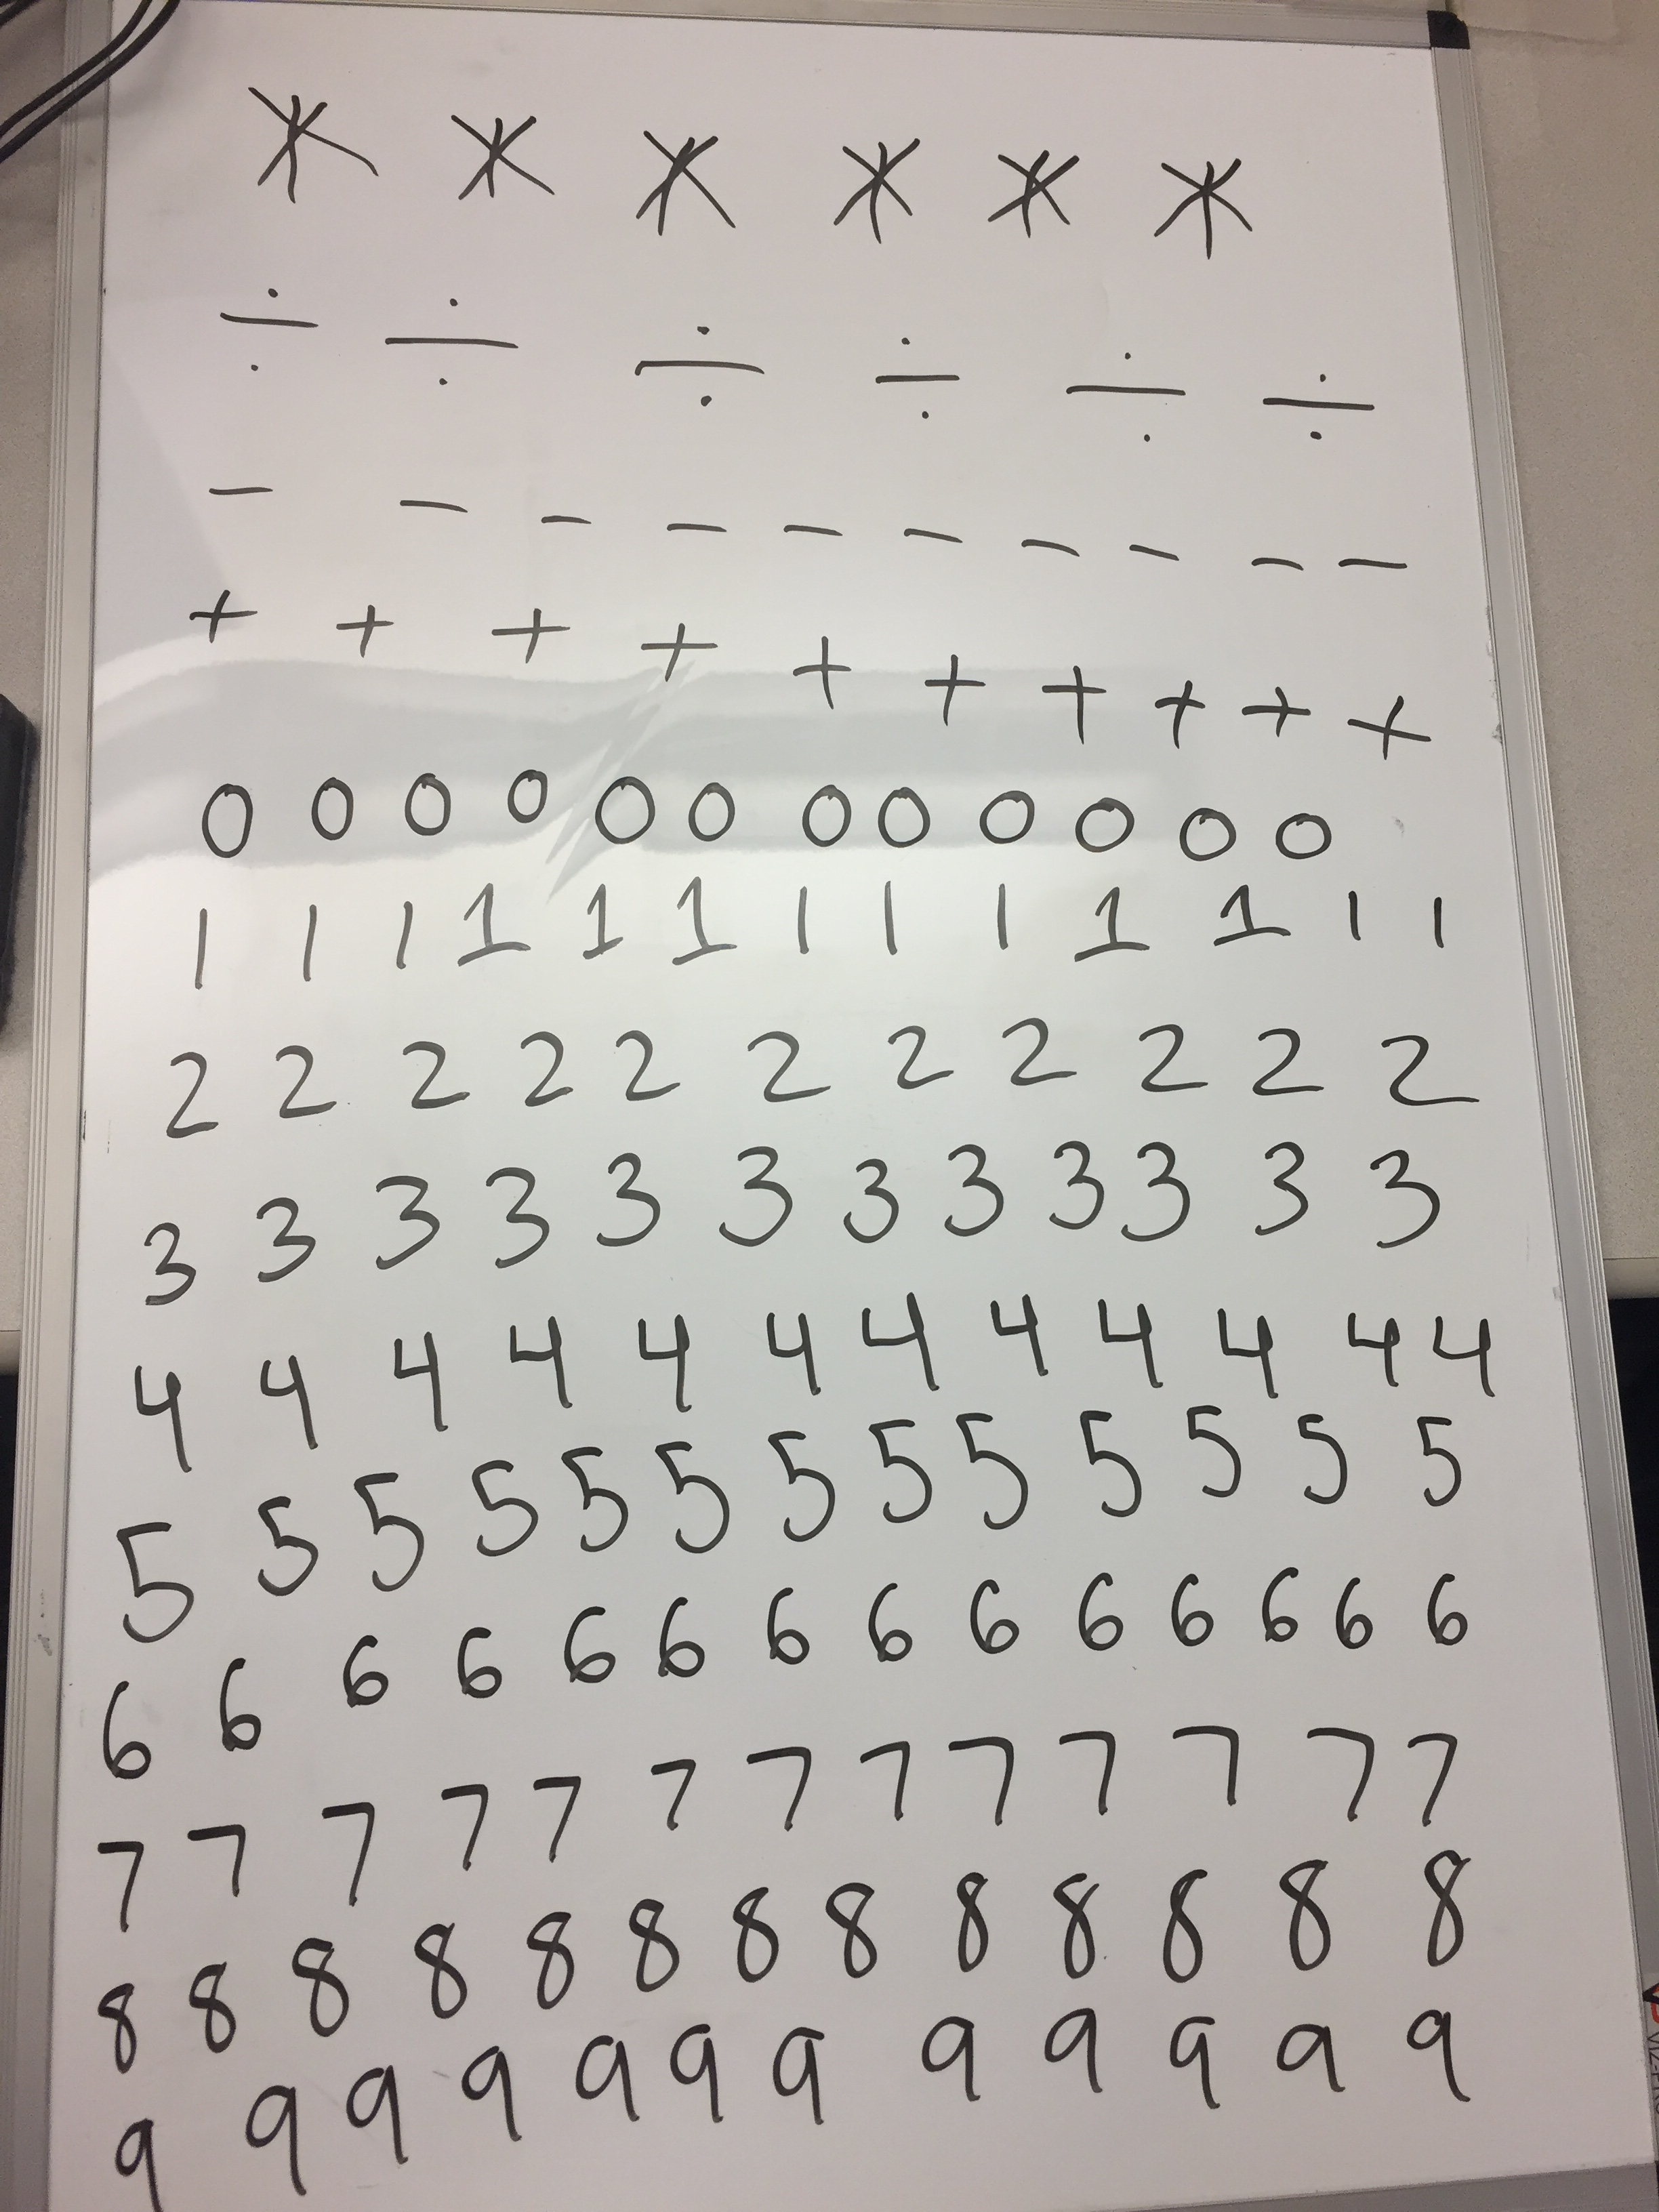+: (1324, 662, 1446, 784), (1033, 639, 1127, 761), (162, 568, 277, 665), (775, 618, 870, 726), (911, 629, 999, 740), (1134, 658, 1229, 761), (1232, 658, 1324, 761), (626, 611, 732, 700), (488, 583, 582, 683), (321, 587, 413, 676)
-: (1324, 526, 1425, 604), (188, 455, 288, 533), (890, 496, 988, 575), (1114, 514, 1206, 594), (385, 469, 488, 540), (1009, 510, 1101, 587), (518, 489, 613, 557), (765, 493, 861, 561), (647, 496, 741, 564), (1236, 526, 1317, 601)
0: (169, 751, 277, 883), (375, 747, 467, 859), (579, 747, 667, 862), (288, 747, 373, 866), (1060, 773, 1155, 873), (1159, 777, 1256, 869), (786, 761, 866, 866), (965, 770, 1053, 866), (866, 766, 945, 866), (1263, 787, 1349, 876), (495, 747, 568, 845), (683, 761, 751, 862)
1: (1192, 866, 1300, 998), (1060, 866, 1159, 991), (450, 869, 542, 1001), (667, 869, 748, 991), (572, 866, 636, 1001), (857, 862, 927, 984), (1324, 866, 1396, 984), (969, 869, 1037, 977), (1403, 866, 1471, 974), (169, 892, 230, 1008), (277, 888, 335, 1012), (382, 883, 432, 1001), (782, 873, 826, 988)
2: (732, 995, 843, 1134), (1361, 1014, 1490, 1134), (983, 998, 1087, 1116), (1121, 1005, 1223, 1120), (382, 1021, 481, 1137), (500, 1014, 596, 1130), (145, 1031, 234, 1157), (870, 1005, 969, 1113), (599, 1014, 694, 1127), (1243, 1008, 1335, 1120), (256, 1031, 345, 1139)
3: (1101, 1120, 1199, 1268), (1349, 1130, 1453, 1268), (352, 1153, 450, 1292), (704, 1130, 802, 1264), (467, 1146, 558, 1289), (579, 1134, 671, 1264), (1236, 1130, 1321, 1264), (1033, 1120, 1117, 1256), (927, 1116, 1009, 1252), (234, 1181, 324, 1299), (829, 1143, 920, 1261), (122, 1204, 206, 1324)
4: (115, 1339, 220, 1503), (240, 1332, 338, 1475), (1073, 1271, 1182, 1400), (843, 1282, 951, 1407), (610, 1292, 711, 1425), (1199, 1282, 1304, 1407), (369, 1320, 467, 1451), (751, 1289, 843, 1418), (495, 1306, 589, 1432), (979, 1275, 1070, 1400), (1422, 1292, 1511, 1414), (1331, 1285, 1419, 1390)
5: (94, 1500, 206, 1662), (338, 1458, 446, 1611), (945, 1397, 1056, 1543), (1060, 1381, 1159, 1543), (450, 1439, 552, 1587), (751, 1414, 847, 1564), (854, 1404, 951, 1550), (653, 1435, 748, 1583), (1263, 1386, 1364, 1522), (542, 1428, 640, 1568), (230, 1479, 328, 1611), (1168, 1386, 1253, 1526), (1406, 1397, 1483, 1522)
6: (192, 1641, 284, 1784), (317, 1604, 410, 1740), (84, 1662, 169, 1808), (432, 1601, 528, 1730), (542, 1573, 633, 1709), (744, 1561, 829, 1702), (643, 1576, 725, 1705), (951, 1557, 1033, 1679), (1415, 1557, 1493, 1672), (1243, 1547, 1317, 1662), (861, 1568, 931, 1689), (1063, 1554, 1134, 1672), (1314, 1564, 1389, 1672), (1162, 1557, 1232, 1669)
7: (1290, 1686, 1392, 1834), (934, 1705, 1037, 1851), (1162, 1696, 1270, 1834), (735, 1716, 833, 1858), (1049, 1705, 1145, 1848), (511, 1747, 599, 1888), (626, 1730, 718, 1862), (308, 1780, 396, 1919), (73, 1820, 166, 1949), (1389, 1696, 1464, 1841), (847, 1719, 927, 1848), (179, 1801, 267, 1919), (423, 1759, 507, 1879)
8: (270, 1923, 373, 2052), (396, 1902, 488, 2038), (1267, 1844, 1351, 1991), (1406, 1838, 1490, 1984), (507, 1888, 593, 2031), (1037, 1858, 1124, 1994), (927, 1855, 1009, 1994), (80, 1963, 162, 2099), (169, 1944, 251, 2078), (1148, 1851, 1223, 1998), (812, 1872, 897, 1994), (714, 1869, 789, 2001), (617, 1883, 687, 2005)
9: (439, 2034, 554, 2196), (328, 2052, 432, 2200), (223, 2071, 331, 2212), (1249, 2001, 1371, 2123), (1389, 1994, 1497, 2130), (554, 2024, 660, 2160), (758, 2010, 857, 2149), (650, 2001, 748, 2139), (1026, 1994, 1127, 2120), (80, 2102, 192, 2212), (911, 2001, 1002, 2130), (1152, 2001, 1236, 2132)
div: (375, 272, 535, 411), (619, 296, 775, 432), (1053, 324, 1199, 465), (1246, 329, 1385, 472), (202, 266, 328, 397), (854, 314, 972, 439)
x: (227, 59, 396, 232), (430, 80, 575, 239), (619, 106, 751, 260), (1141, 131, 1267, 272), (976, 124, 1098, 249), (826, 117, 938, 249)
